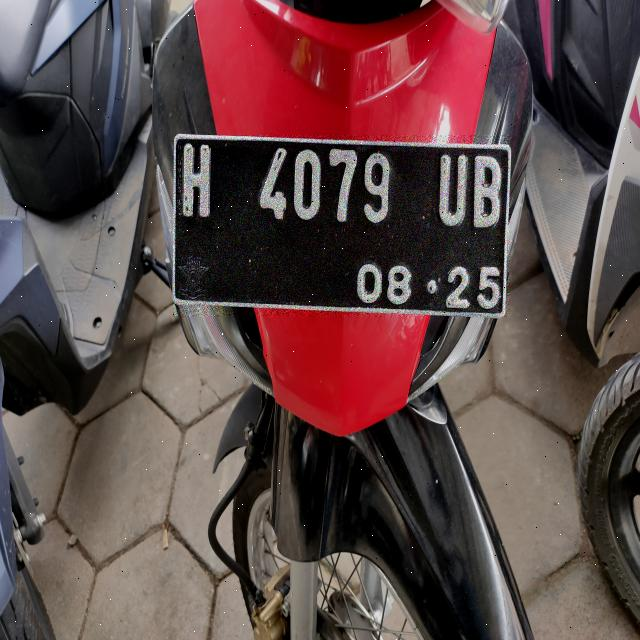plate: (174, 136, 509, 316)
